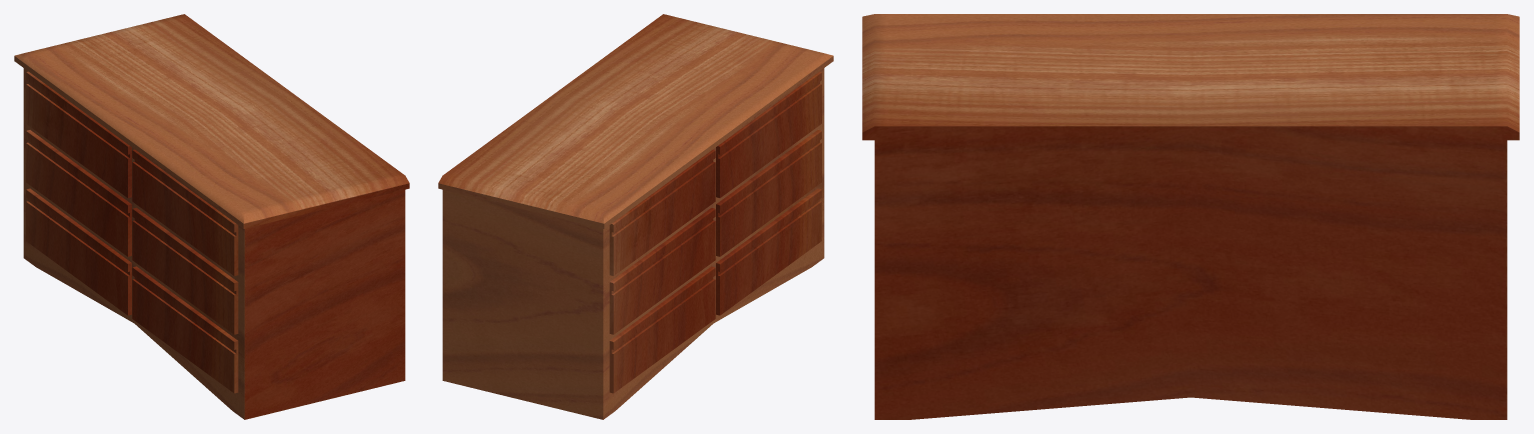
3 renders of one model, left to right at view 1: azimuth 30°, elevation 25°; view 2: azimuth 150°, elevation 25°; view 3: azimuth 270°, elevation 25°, orthographic. The views are drawn at different scales.
Visible parts, largest first — view 1: Dresser_Geo2; view 2: Dresser_Geo2; view 3: Dresser_Geo2.
Part boxes in pixels (box(x1,y1,x2,y2)): Dresser_Geo2: box(14, 14, 409, 419); Dresser_Geo2: box(438, 14, 833, 419); Dresser_Geo2: box(862, 14, 1519, 419).
Bounding box in the file's own units: 0.835 × 0.9858 × 2.
Materials: 1 (1 with a texture image).
